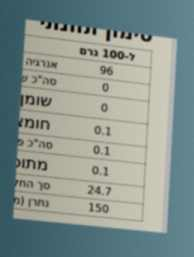carbs: (91, 142, 113, 160)
energy: (98, 62, 115, 79)
fat: (100, 80, 111, 96)
protein: (85, 182, 114, 200)
